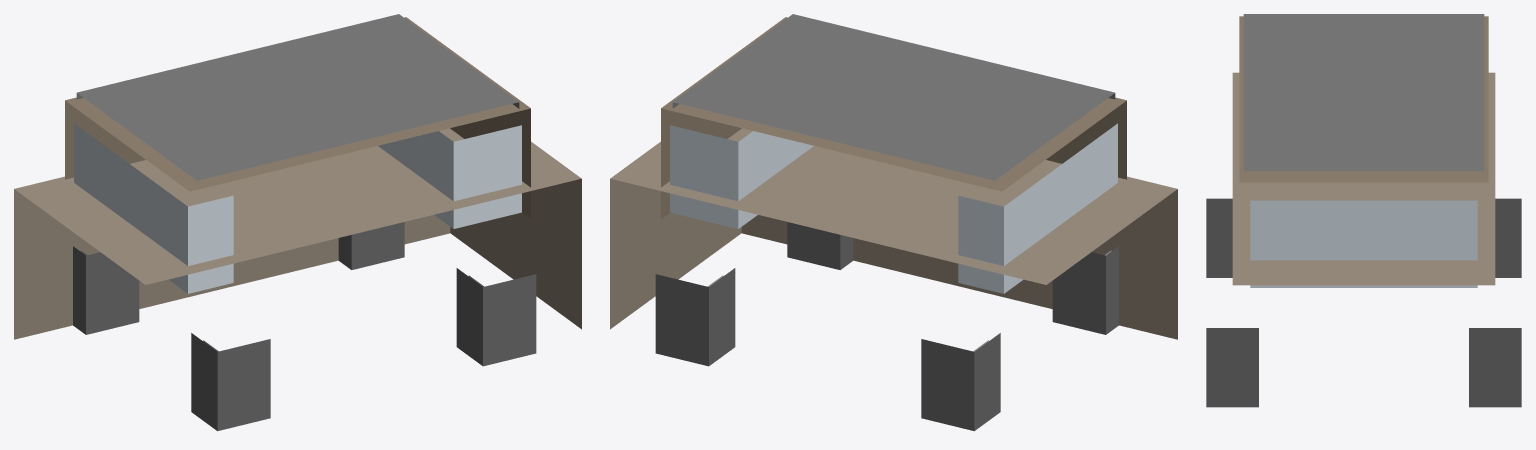
Rendered from car_suv.glb.
3 renders of one model, left to right at view 1: azimuth 30°, elevation 25°; view 2: azimuth 150°, elevation 25°; view 3: azimuth 270°, elevation 25°, orthographic.
Size of the model in its own units: 2.3 by 1.2 by 1.44.
